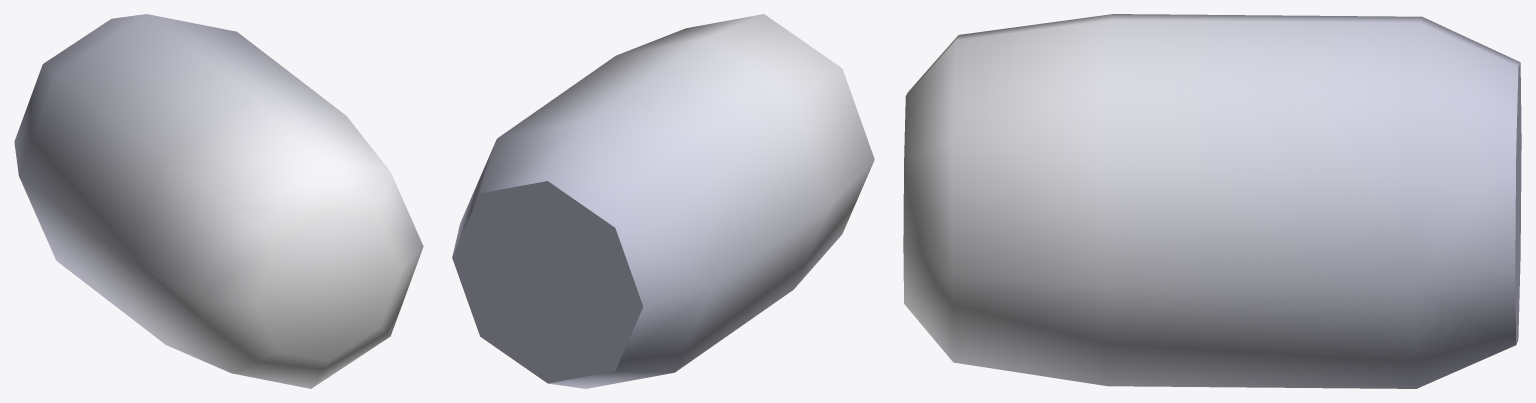
The model's file is arm-left_lev3.glb.
The picture shows the model from 3 angles, left to right: view 1: azimuth 30°, elevation 25°; view 2: azimuth 150°, elevation 25°; view 3: azimuth 270°, elevation 25°; orthographic projection. The views are drawn at different scales.
Parts seen in each view (by area): view 1: arm-left_lev3; view 2: arm-left_lev3; view 3: arm-left_lev3.
Boxes of the visible parts, x1,y1,x2,y2 form: arm-left_lev3: [14, 14, 423, 388]; arm-left_lev3: [452, 14, 874, 388]; arm-left_lev3: [903, 14, 1521, 388].
Bounding box in the file's own units: 1.22 × 1.2 × 1.87.
1 material, 1 textured.
